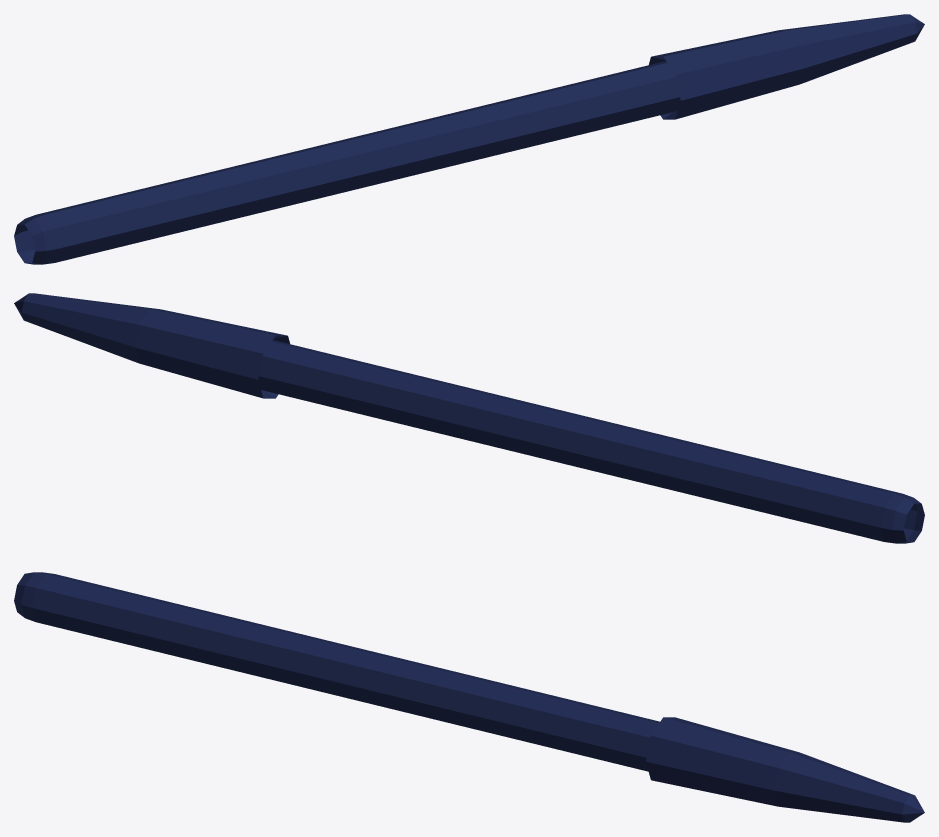
File: Caneta.fbx
3 renders of one model, top to bottom at view 1: azimuth 30°, elevation 25°; view 2: azimuth 150°, elevation 25°; view 3: azimuth 330°, elevation 25°, orthographic.
Visible parts, largest first — view 1: Circle; view 2: Circle; view 3: Circle.
Boxes of the visible parts, x1=… form: Circle: x1=14, y1=14, x2=924, y2=264; Circle: x1=14, y1=293, x2=924, y2=543; Circle: x1=14, y1=572, x2=924, y2=822.
Size of the model in its own units: 99.99 by 6.72 by 6.72.
